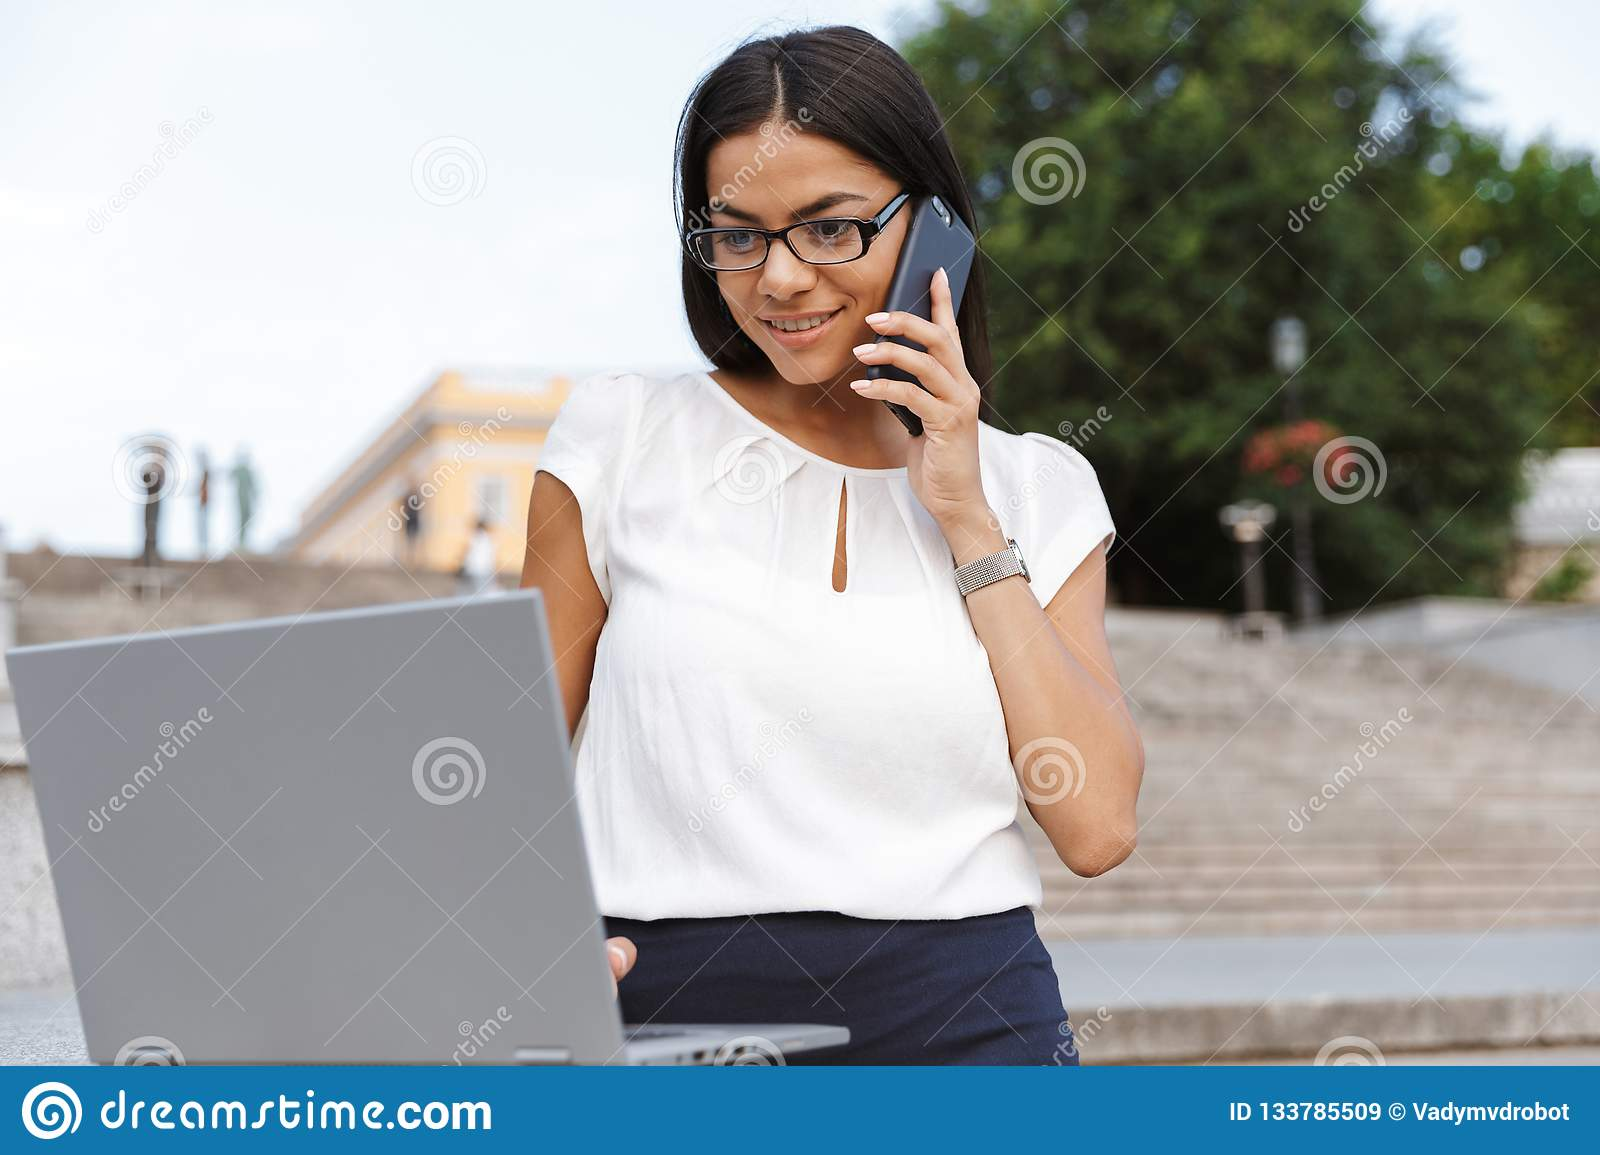phone: (858, 192, 976, 455)
talk: (704, 178, 986, 519)
